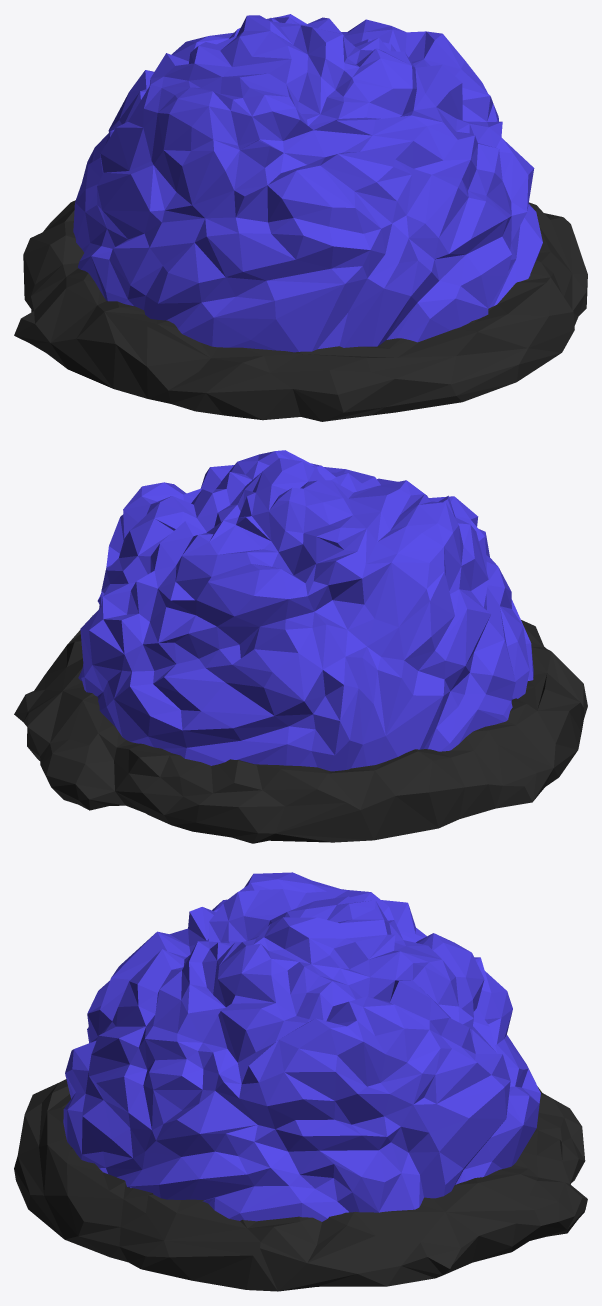
The model's file is Ore.fbx.
The picture shows the model from 3 angles, top to bottom: view 1: azimuth 30°, elevation 25°; view 2: azimuth 150°, elevation 25°; view 3: azimuth 270°, elevation 25°; orthographic projection. The views are drawn at different scales.
Visible parts, largest first — view 1: Crystal, Base Mineral; view 2: Crystal, Base Mineral; view 3: Crystal, Base Mineral.
Part boxes in pixels (bbox=[...]): Crystal: bbox=[73, 14, 542, 352]; Base Mineral: bbox=[14, 200, 587, 421]; Crystal: bbox=[78, 450, 533, 771]; Base Mineral: bbox=[14, 615, 587, 843]; Crystal: bbox=[63, 872, 540, 1221]; Base Mineral: bbox=[14, 1079, 587, 1291].
Size of the model in its own units: 263 by 135 by 260.
